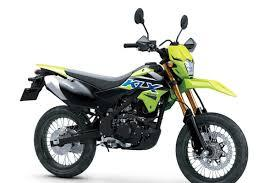motorcycle: (12, 2, 252, 183)
